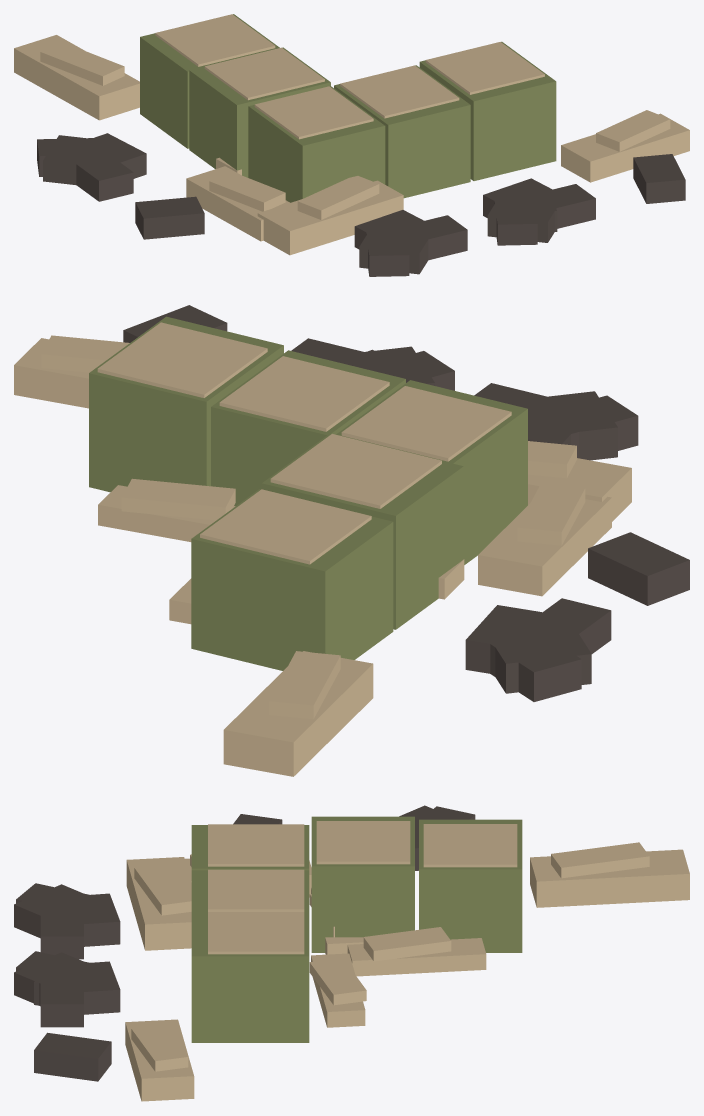
The model's file is SM_HescoEsquina_v4_Red_e2_MuyDanado_LOD1.fbx.
3 renders of one model, top to bottom at view 1: azimuth 30°, elevation 25°; view 2: azimuth 150°, elevation 25°; view 3: azimuth 270°, elevation 25°, orthographic. The views are drawn at different scales.
Parts seen in each view (by area): view 1: SM_hesco_piezas_v18_LOD1; view 2: SM_hesco_piezas_v18_LOD1; view 3: SM_hesco_piezas_v18_LOD1.
Part boxes in pixels (x1,y1,x2,y2): SM_hesco_piezas_v18_LOD1: [14, 14, 689, 276]; SM_hesco_piezas_v18_LOD1: [14, 305, 689, 776]; SM_hesco_piezas_v18_LOD1: [14, 805, 689, 1101].
Size of the model in its own units: 6.71 by 1.02 by 7.01.
